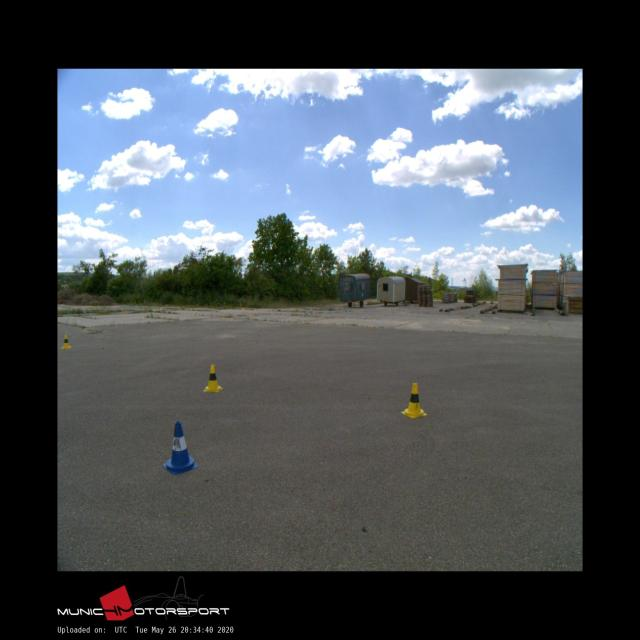blue_cone: (162, 422, 197, 474)
yellow_cone: (400, 383, 426, 417), (204, 365, 222, 392), (60, 334, 70, 348)
